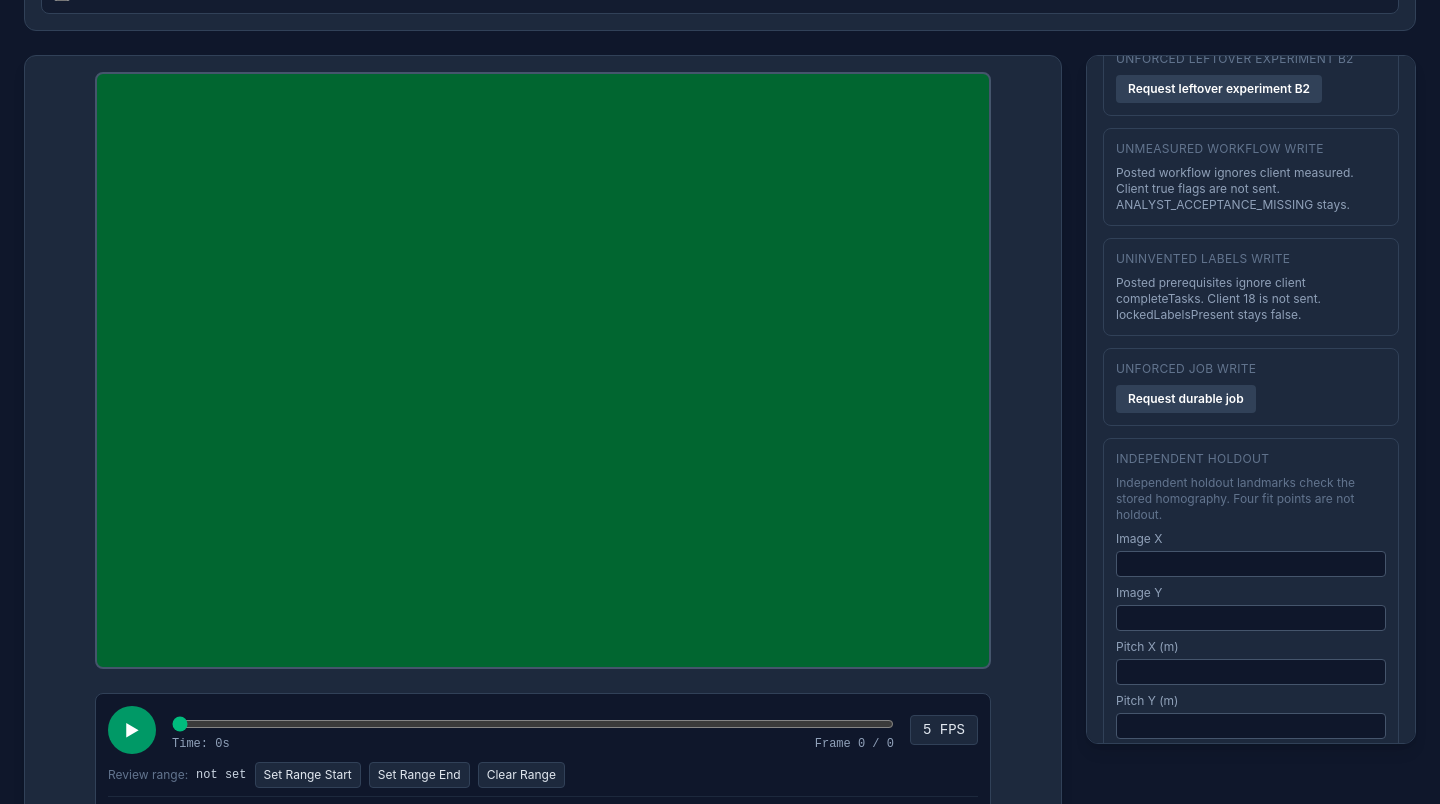
Test: App leftover contract workbench › posts a durable match job only on request without inventing GPU or sealed inference
The width and height of the screenshot is (1440, 804).
(page scrolled)
Click the button "Request durable job": (1186, 399) left=1116, top=385, right=1256, bottom=413
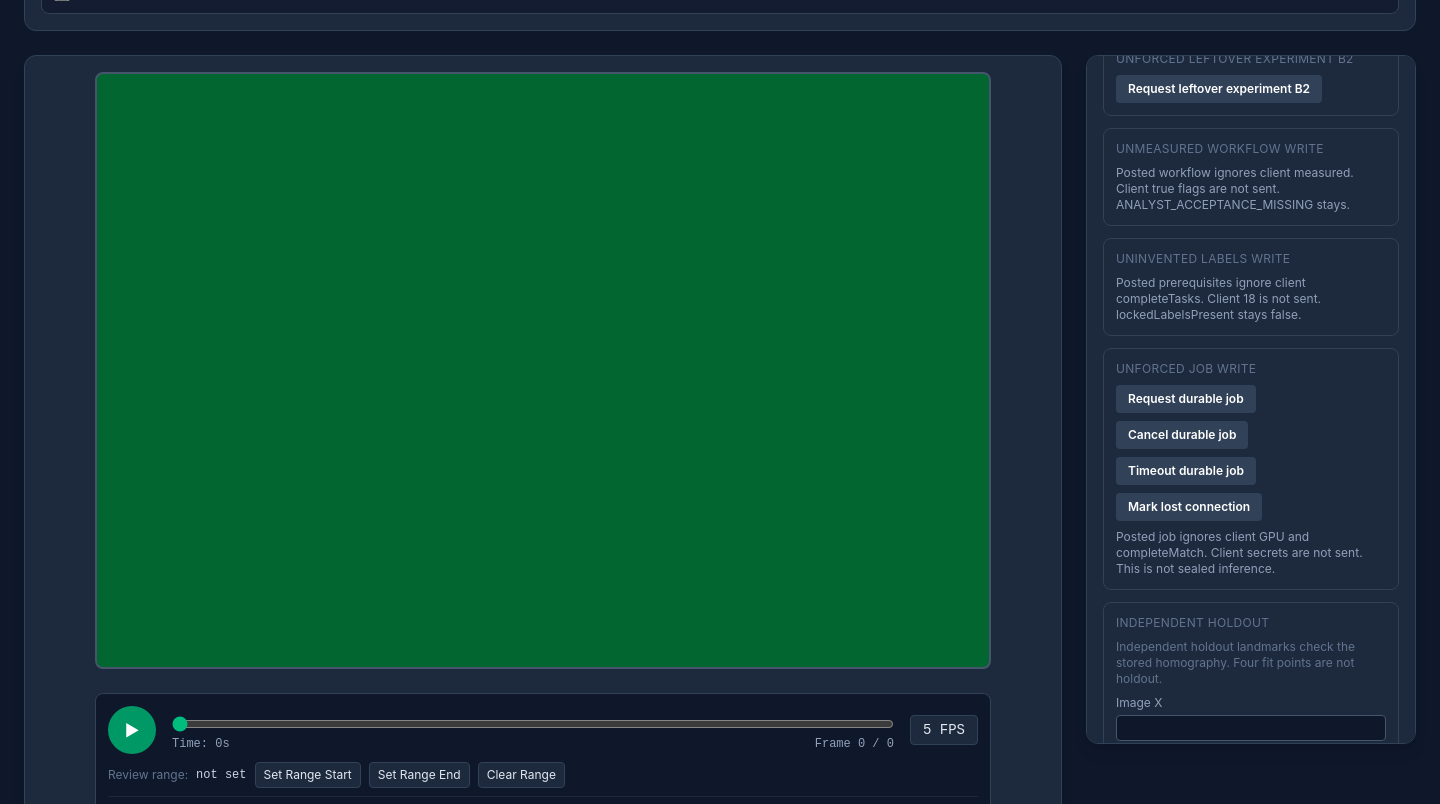
Result: the text "not sealed inference" is shown at left=1116, top=529, right=1363, bottom=576
